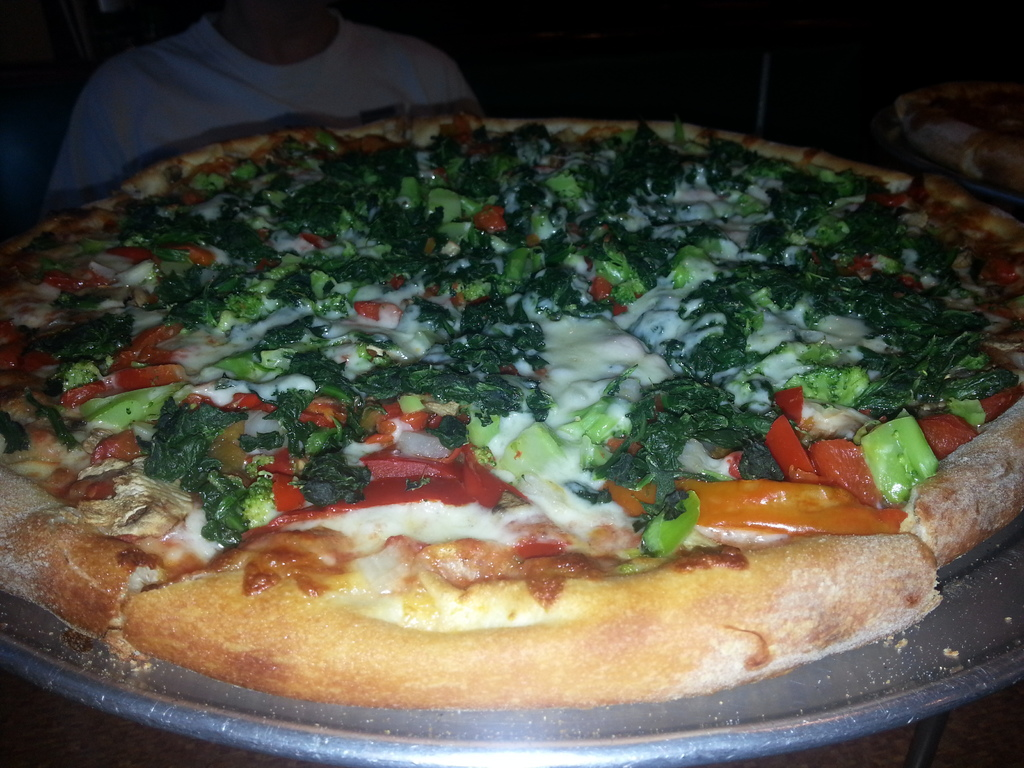Pizza: (0, 113, 1023, 706)
